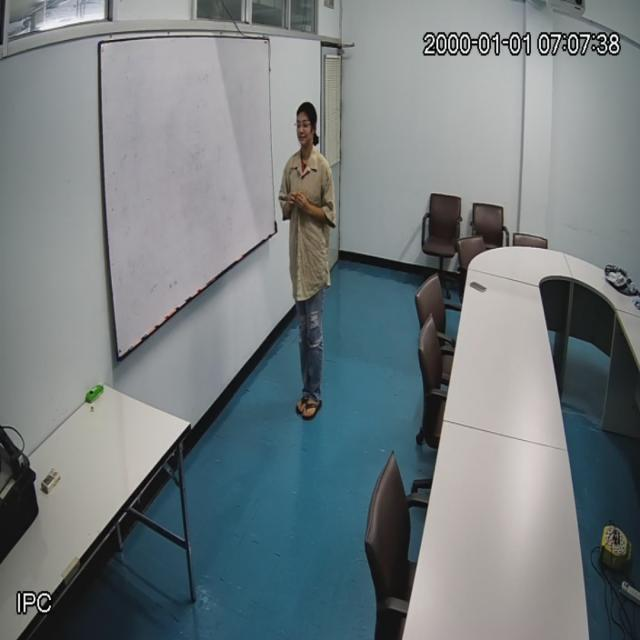normal: (277, 91, 338, 432)
